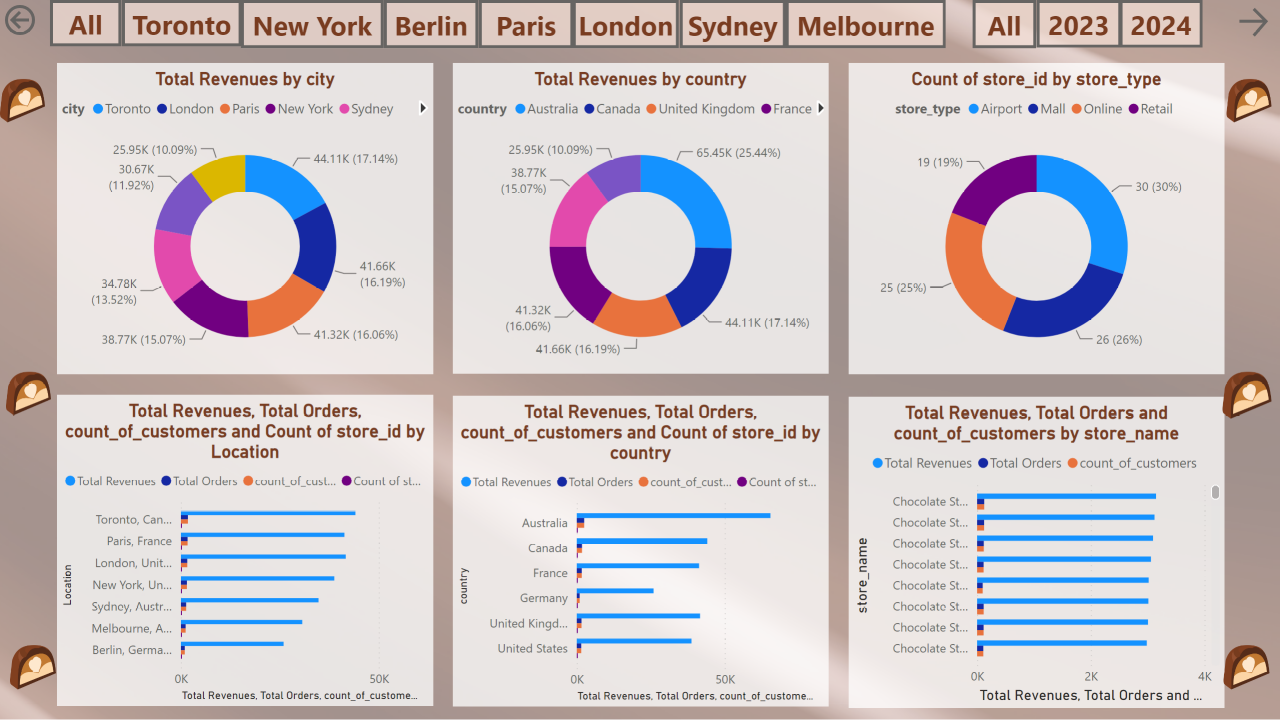

The page's visual inventory and layout, read from the dashboard file:
{"tool":"powerbi","page":{"name":"Stores Performance","canvas":[1280,720],"ordinal":2},"visuals":[{"type":"clusteredBarChart","fields":{"Category":["Stores.store_name"],"Y":["Sales.Total Revenues","Sales.Total Orders","Sales.count_of_customers"]},"box":[848.6,396.8,376,311.4],"z":0},{"type":"donutChart","fields":{"Category":["Country_Mapping.country"],"Y":["Sales.Total Revenues"]},"box":[452.9,63.2,375.8,311.1],"z":1000},{"type":"actionButton","box":[0,0,100,40],"z":2000},{"type":"donutChart","fields":{"Category":["Country_Mapping.city"],"Y":["Sales.Total Revenues"]},"box":[57,63.1,376.5,311.4],"z":3000},{"type":"donutChart","fields":{"Category":["Stores.store_type"],"Y":["CountNonNull(Stores.store_id)"]},"box":[848.6,63.1,376,311.4],"z":4000},{"type":"actionButton","box":[973,0,63.7,48.3],"z":5000},{"type":"actionButton","box":[1036.6,0,84.7,47.7],"z":6000},{"type":"actionButton","box":[1119.8,0,83.2,47.7],"z":7000},{"type":"image","box":[0,63.1,44.8,75.3],"z":8000},{"type":"image","box":[9.9,630.1,46.1,75.7],"z":9000},{"type":"image","box":[6.1,356.1,44.8,75.3],"z":10000},{"type":"image","box":[1227.1,63.1,44.8,75.3],"z":11000},{"type":"image","box":[1223,358.2,48.8,75.3],"z":12000},{"type":"image","box":[1224.1,630.1,46.1,75.7],"z":13000},{"type":"actionButton","box":[384.2,0,94.6,48.3],"z":14000},{"type":"actionButton","box":[241.3,0,142.9,48.3],"z":15000},{"type":"actionButton","box":[121.6,0,119.7,46.3],"z":16000},{"type":"actionButton","box":[50.2,0,71.4,46.3],"z":17000},{"type":"actionButton","box":[478.8,0,94.6,48.3],"z":18000},{"type":"actionButton","box":[573.4,0,106.2,48.3],"z":19000},{"type":"clusteredBarChart","fields":{"Category":["Country_Mapping.Location"],"Y":["Sales.Total Revenues","Sales.Total Orders","Sales.count_of_customers","CountNonNull(Stores.store_id)"]},"box":[57,394.8,376.5,311.4],"z":20000},{"type":"actionButton","box":[679.6,0,106.2,48.3],"z":21000},{"type":"actionButton","box":[785.8,0,160.2,48.3],"z":22000},{"type":"clusteredBarChart","fields":{"Category":["Country_Mapping.country"],"Y":["Sales.Total Revenues","Sales.Total Orders","Sales.count_of_customers","CountNonNull(Stores.store_id)"]},"box":[452.9,395.9,375.8,311.1],"z":23000},{"type":"actionButton","box":[1233.8,1.5,38.5,40],"z":23001}]}

Visuals, with their boxes in screenshot pixels (x1, y1, x2, y2), scaled from the page's 1280x720 canvas onto the 1280x720 screenshot:
clusteredBarChart - Stores.store_name x Sales.Total Revenues: [x1=849, y1=397, x2=1225, y2=708]
donutChart - Country_Mapping.country x Sales.Total Revenues: [x1=453, y1=63, x2=829, y2=374]
actionButton: [x1=0, y1=0, x2=100, y2=40]
donutChart - Country_Mapping.city x Sales.Total Revenues: [x1=57, y1=63, x2=434, y2=374]
donutChart - Stores.store_type x CountNonNull(Stores.store_id): [x1=849, y1=63, x2=1225, y2=374]
actionButton: [x1=973, y1=0, x2=1037, y2=48]
actionButton: [x1=1037, y1=0, x2=1121, y2=48]
actionButton: [x1=1120, y1=0, x2=1203, y2=48]
image: [x1=0, y1=63, x2=45, y2=138]
image: [x1=10, y1=630, x2=56, y2=706]
image: [x1=6, y1=356, x2=51, y2=431]
image: [x1=1227, y1=63, x2=1272, y2=138]
image: [x1=1223, y1=358, x2=1272, y2=434]
image: [x1=1224, y1=630, x2=1270, y2=706]
actionButton: [x1=384, y1=0, x2=479, y2=48]
actionButton: [x1=241, y1=0, x2=384, y2=48]
actionButton: [x1=122, y1=0, x2=241, y2=46]
actionButton: [x1=50, y1=0, x2=122, y2=46]
actionButton: [x1=479, y1=0, x2=573, y2=48]
actionButton: [x1=573, y1=0, x2=680, y2=48]
clusteredBarChart - Country_Mapping.Location x Sales.Total Revenues: [x1=57, y1=395, x2=434, y2=706]
actionButton: [x1=680, y1=0, x2=786, y2=48]
actionButton: [x1=786, y1=0, x2=946, y2=48]
clusteredBarChart - Country_Mapping.country x Sales.Total Revenues: [x1=453, y1=396, x2=829, y2=707]
actionButton: [x1=1234, y1=2, x2=1272, y2=42]
